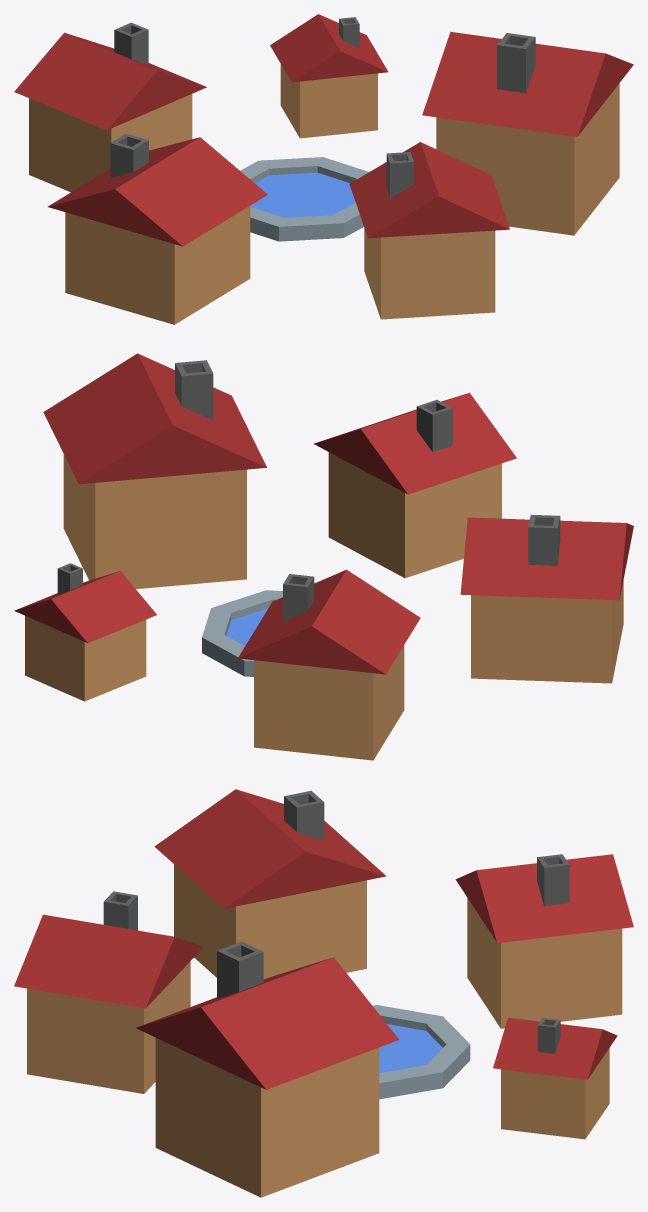
File: Town.fbx
The picture shows the model from 3 angles, top to bottom: view 1: azimuth 30°, elevation 25°; view 2: azimuth 150°, elevation 25°; view 3: azimuth 270°, elevation 25°; orthographic projection. The views are drawn at different scales.
Parts seen in each view (by area): view 1: Town; view 2: Town; view 3: Town.
Boxes of the visible parts, x1,y1,x2,y2 form: Town: (14, 14, 633, 324); Town: (14, 353, 633, 760); Town: (14, 789, 633, 1197).
Size of the model in its own units: 0.9339 by 0.2763 by 0.8161.
